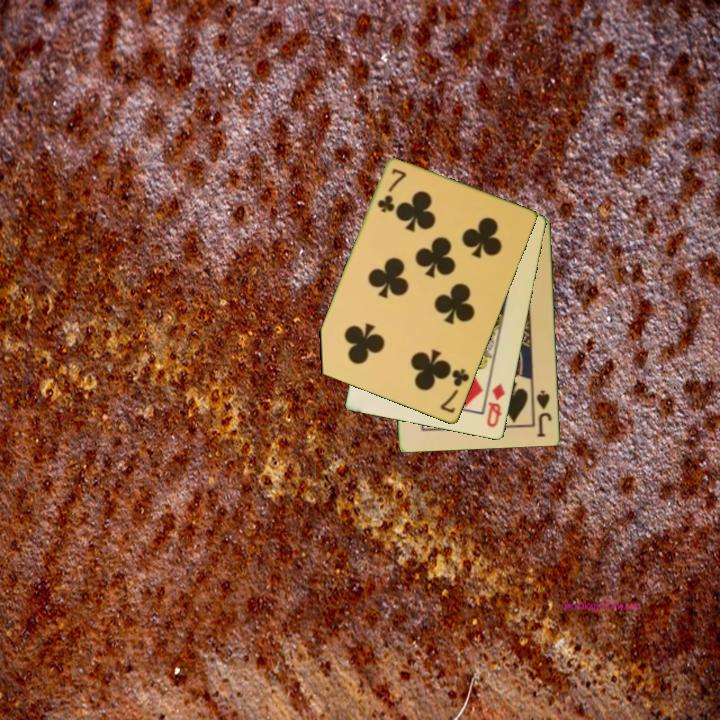7c: (437, 365, 472, 416), (374, 165, 409, 216)
Js: (533, 387, 555, 441)
Qd: (483, 380, 508, 431)
